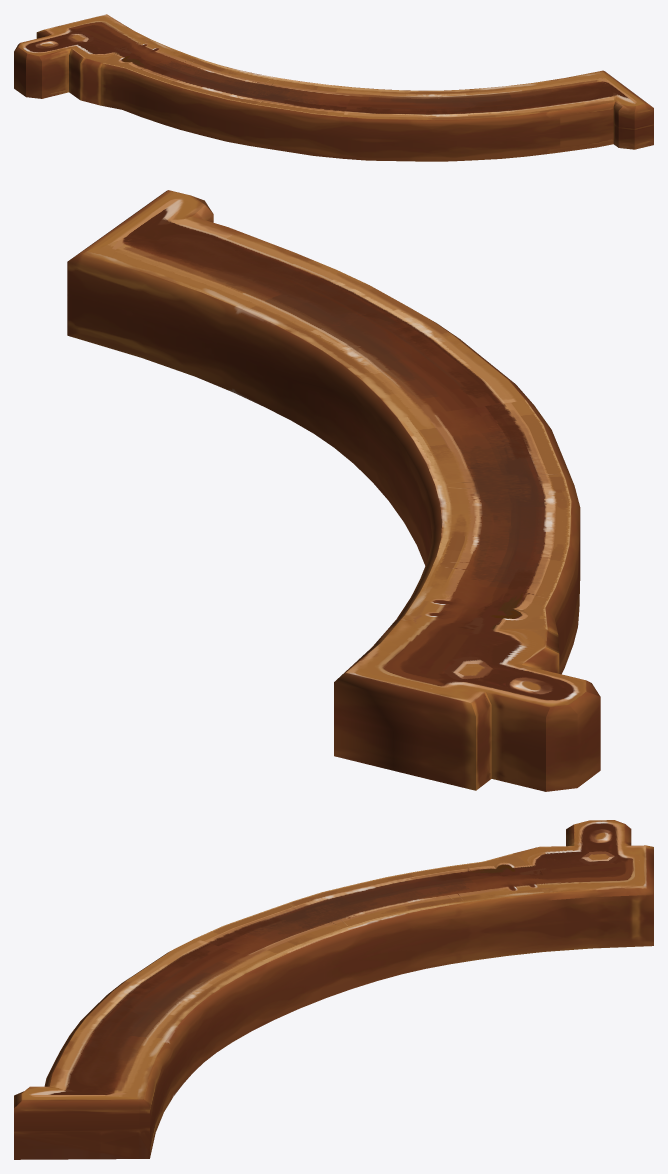
File: curvedAlt_01.fbx
3 views of the same model, one above another, from view 1: azimuth 30°, elevation 25°; view 2: azimuth 150°, elevation 25°; view 3: azimuth 270°, elevation 25° (orthographic). The views are drawn at different scales.
Parts seen in each view (by area): view 1: curvedAlt_01; view 2: curvedAlt_01; view 3: curvedAlt_01.
Boxes of the visible parts, bbox=[...] form: curvedAlt_01: bbox=[14, 14, 653, 161]; curvedAlt_01: bbox=[67, 190, 600, 791]; curvedAlt_01: bbox=[14, 820, 653, 1159].
Size of the model in its own units: 6.57 by 0.6117 by 6.22.
